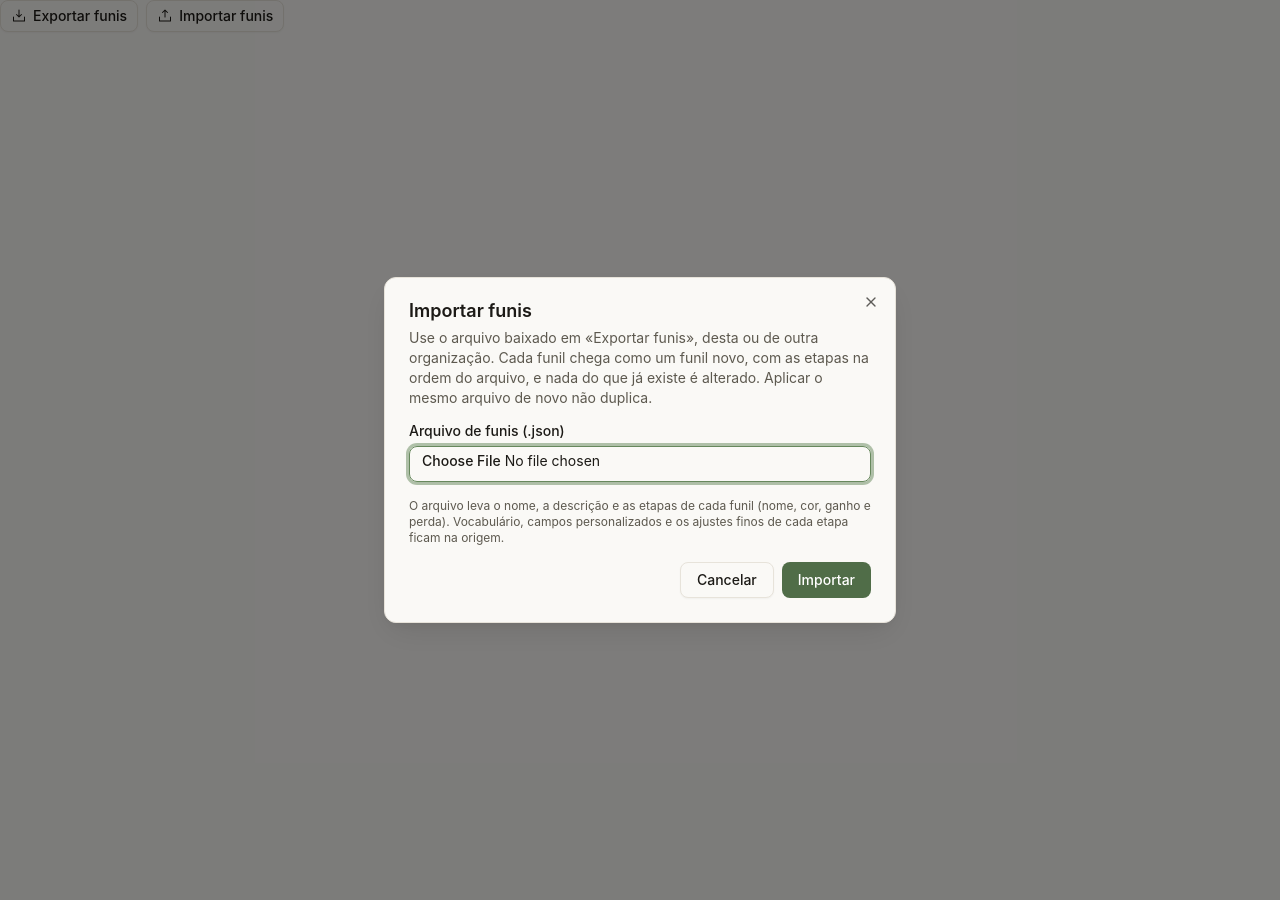
Importar funis › mostra criados, cópias e os que já estavam aqui, e recarrega a lista
Earlier steps of the test are not shown.
Step 1. Click the button "Importar" → (826, 580), box [782,562,871,598]
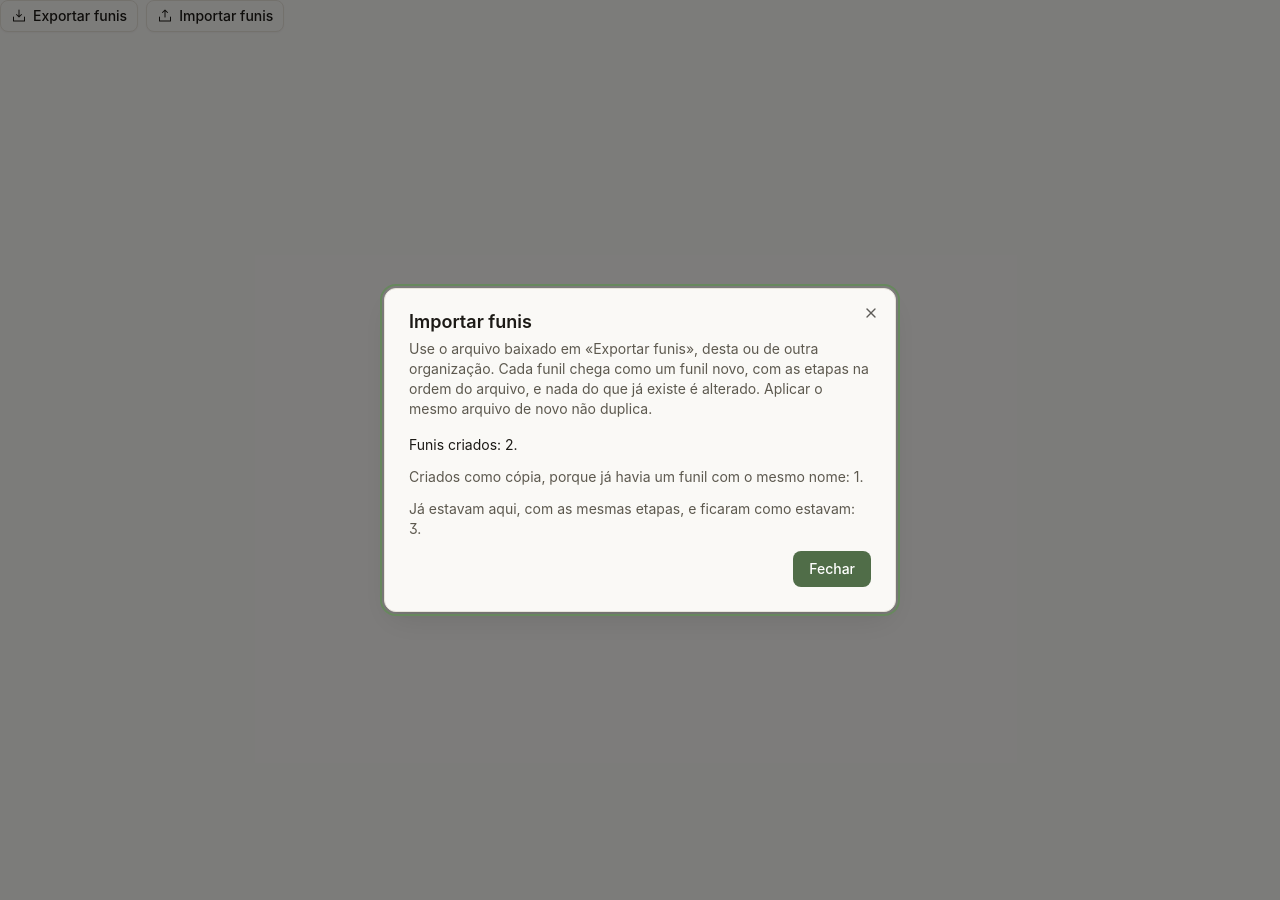
Check: the text "Funis criados: 2." is shown, box [409,436,518,453]
Check: the text "Criados como cópia, porque já havia um funil com o mesmo nome: 1." is shown, box [409,467,871,487]
Check: the text "Já estavam aqui, com as mesmas etapas, e ficaram como estavam: 3." is shown, box [409,499,871,539]
